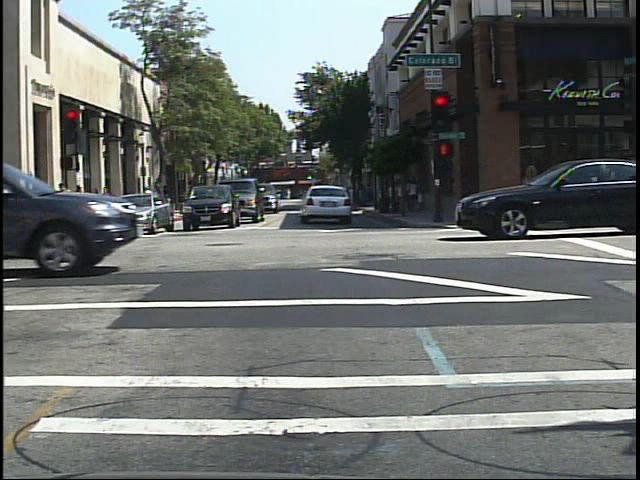person: (157, 180, 175, 215), (139, 183, 158, 213), (95, 189, 99, 228)
